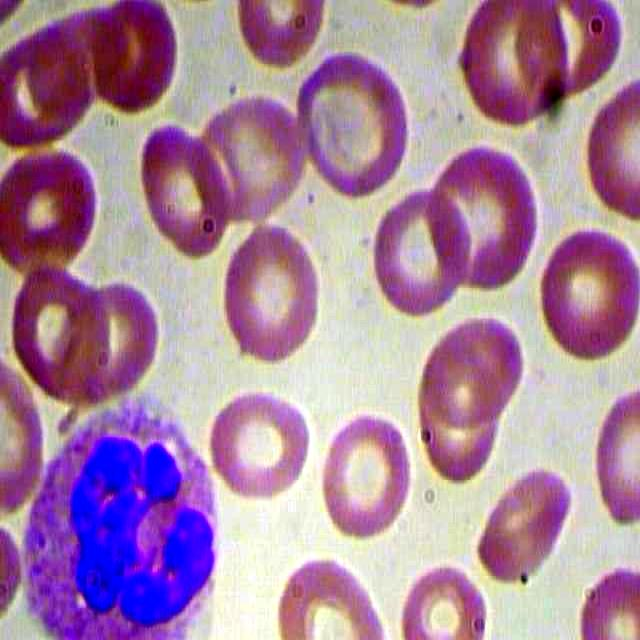RBC: (292, 46, 414, 206), (425, 142, 539, 298), (455, 1, 574, 135), (469, 450, 579, 590), (530, 226, 640, 366), (211, 222, 321, 362), (207, 86, 317, 226), (367, 185, 471, 320), (1, 137, 101, 276), (313, 413, 423, 535), (10, 267, 110, 397), (417, 311, 531, 425), (416, 332, 500, 483), (139, 114, 229, 254), (208, 386, 310, 506)
WBC: (10, 388, 236, 640)
